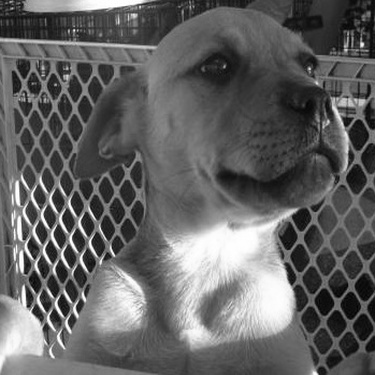dog: (5, 5, 370, 370)
